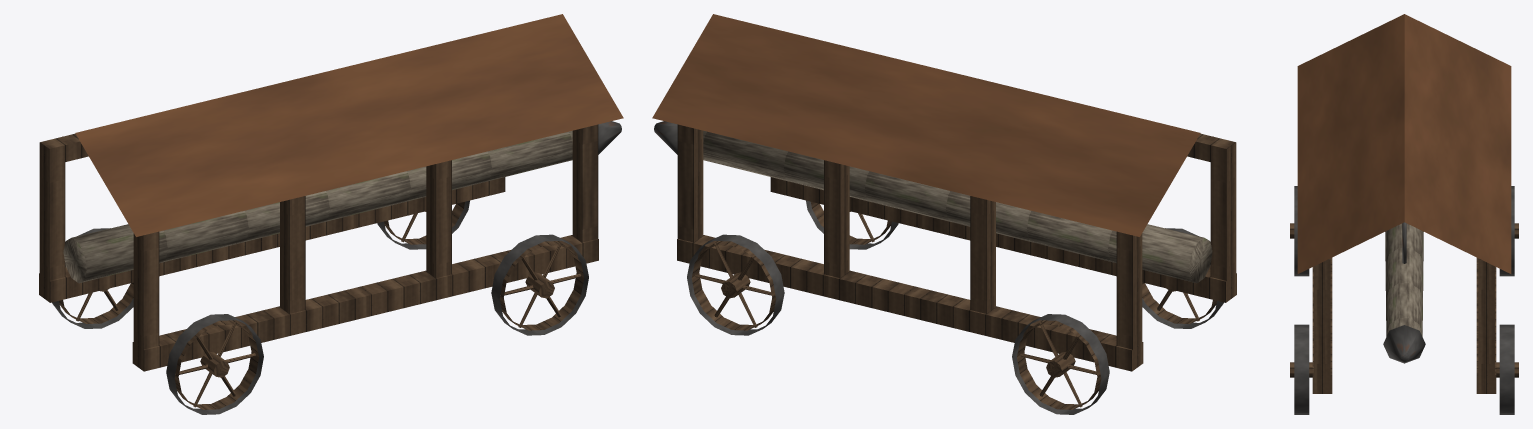
The model's file is Battering_Ram_1.gltf.
3 renders of one model, left to right at view 1: azimuth 30°, elevation 25°; view 2: azimuth 150°, elevation 25°; view 3: azimuth 270°, elevation 25°, orthographic. The views are drawn at different scales.
Visible parts, largest first — view 1: Battering_Ram_1; view 2: Battering_Ram_1; view 3: Battering_Ram_1.
Part boxes in pixels (x1,y1,x2,y2): Battering_Ram_1: (39, 14, 623, 414); Battering_Ram_1: (652, 14, 1236, 414); Battering_Ram_1: (1290, 14, 1518, 414).
Bounding box in the file's own units: 6.7 × 3 × 2.79.
4 materials, 4 textured.
